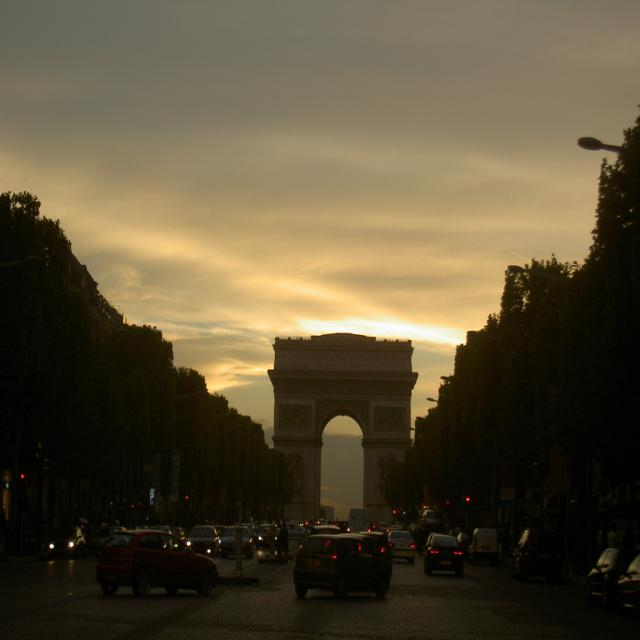car: (94, 527, 217, 596), (288, 533, 393, 606), (420, 529, 464, 577), (466, 523, 504, 562), (186, 522, 222, 552)
